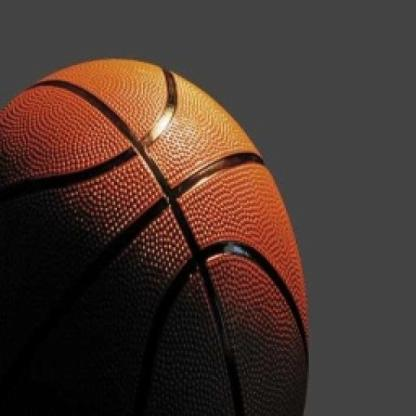basketball: (0, 52, 313, 416)
